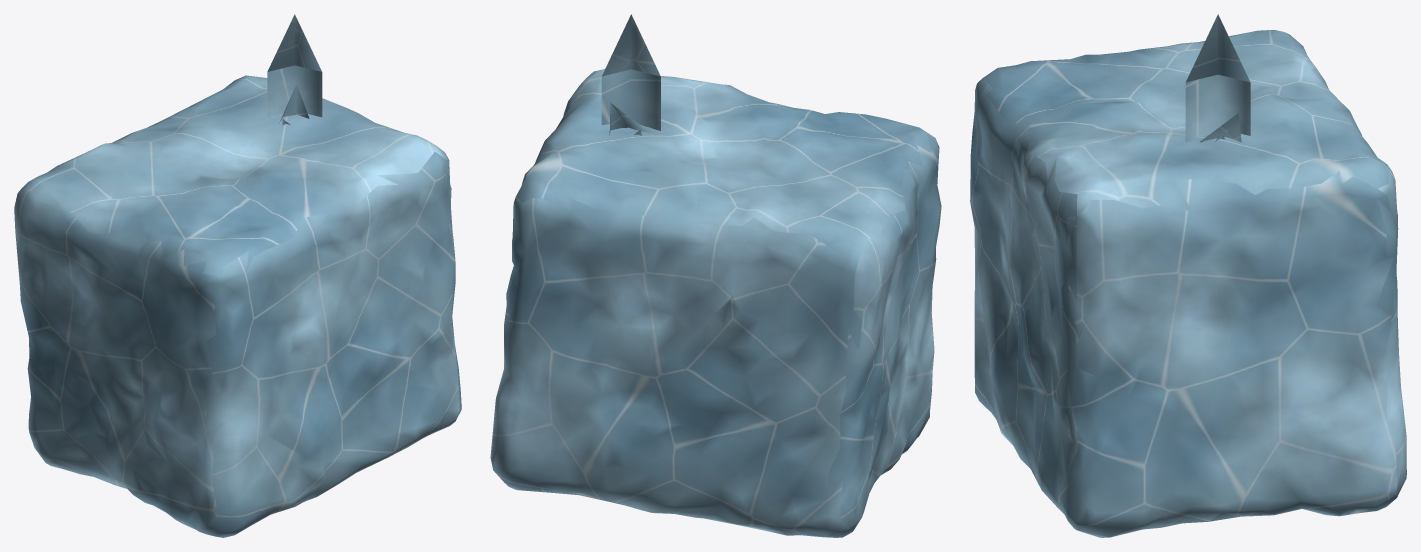
File: iceblock.glb
The picture shows the model from 3 angles, left to right: view 1: azimuth 30°, elevation 25°; view 2: azimuth 150°, elevation 25°; view 3: azimuth 270°, elevation 25°; orthographic projection. The views are drawn at different scales.
Parts seen in each view (by area): view 1: Base; view 2: Base; view 3: Base.
Part boxes in pixels (bbox=[...]): Base: bbox=[14, 14, 461, 537]; Base: bbox=[490, 14, 941, 537]; Base: bbox=[970, 14, 1406, 537].
Bounding box in the file's own units: 0.7952 × 0.8755 × 0.6989.
1 material, 1 textured.
